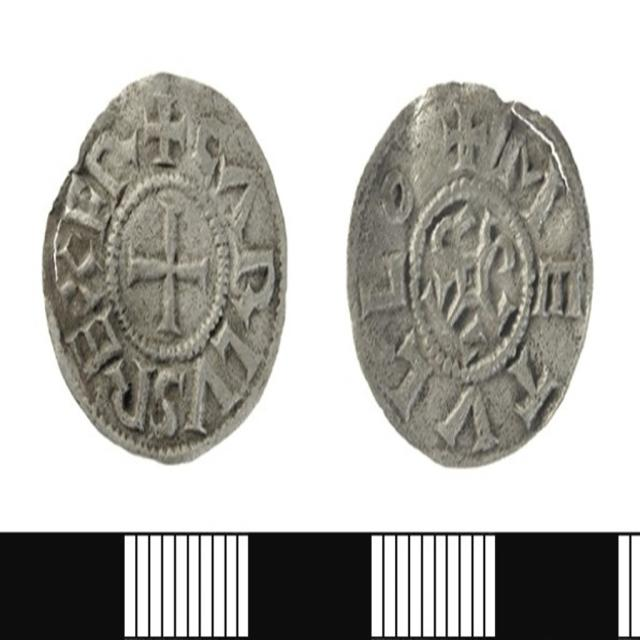Coin: (345, 77, 593, 476), (41, 65, 287, 465)
